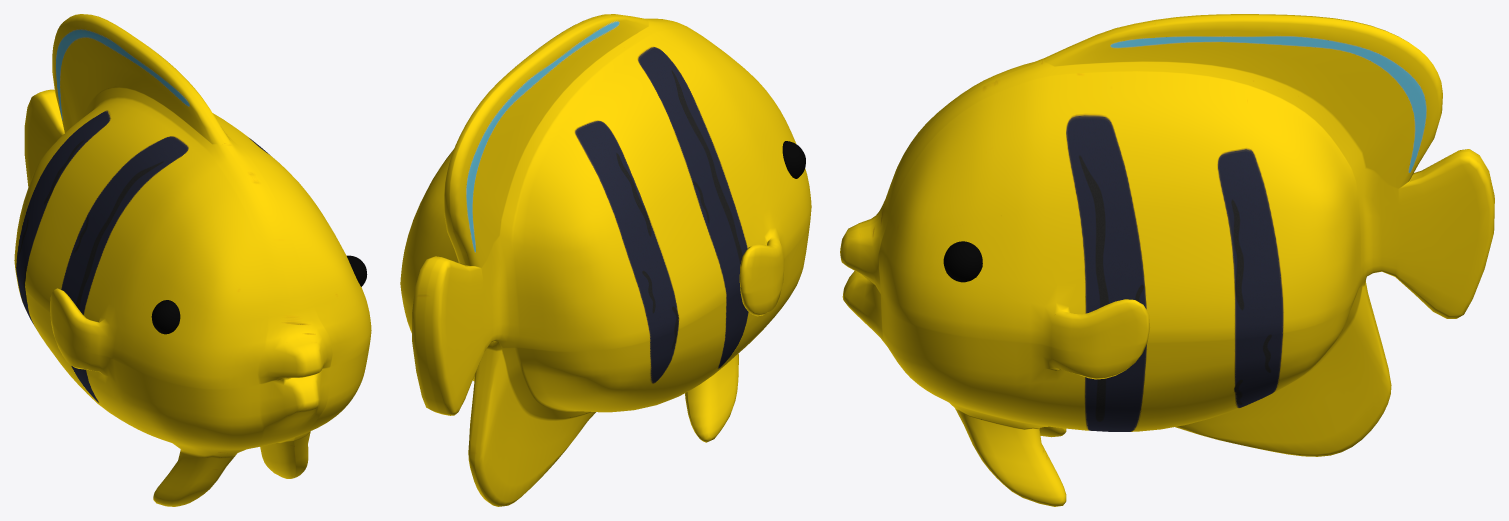
File: PEZ-MARIPOSA.fbx
3 renders of one model, left to right at view 1: azimuth 30°, elevation 25°; view 2: azimuth 150°, elevation 25°; view 3: azimuth 270°, elevation 25°, orthographic. The views are drawn at different scales.
Visible parts, largest first — view 1: Pez_Mariposa, pSphere1; view 2: Pez_Mariposa, pSphere1; view 3: Pez_Mariposa, pSphere2.
Boxes of the visible parts, x1,y1,x2,y2 form: Pez_Mariposa: [14, 14, 371, 506]; pSphere1: [151, 300, 180, 334]; Pez_Mariposa: [400, 14, 811, 506]; pSphere1: [782, 141, 805, 178]; Pez_Mariposa: [840, 14, 1494, 506]; pSphere2: [943, 241, 982, 282].
Size of the model in its own units: 0.862 by 1.18 by 1.54.
